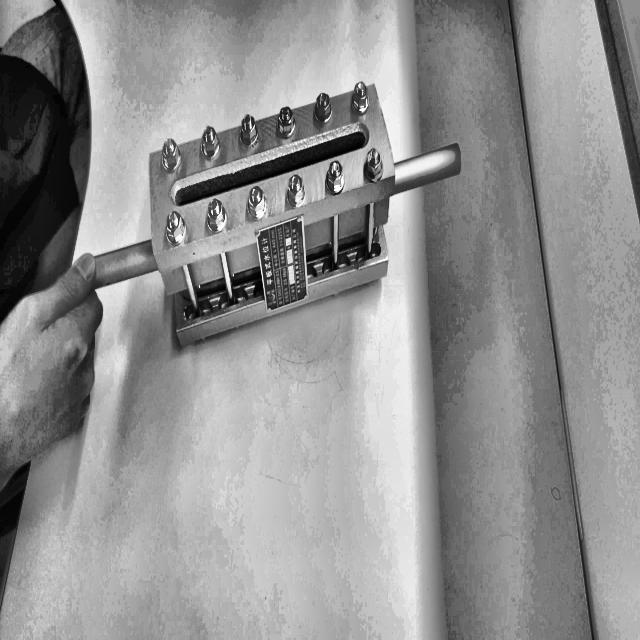ShuiWeiQi_12: (99, 76, 471, 326)
